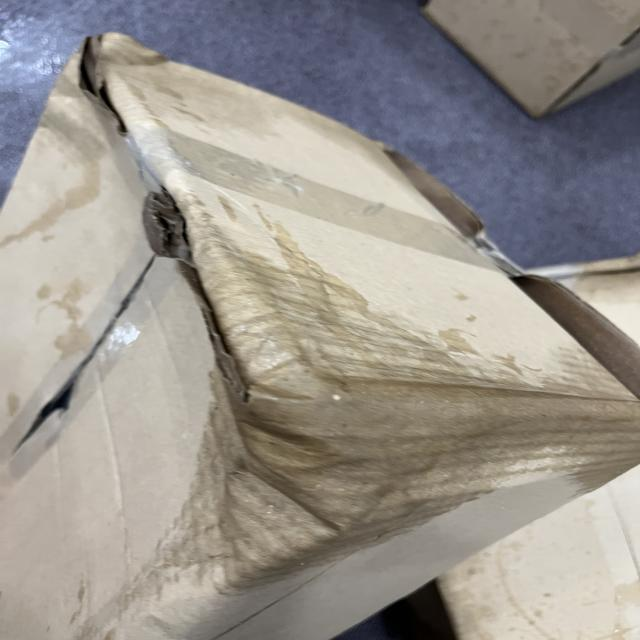wet: (198, 228, 639, 536)
